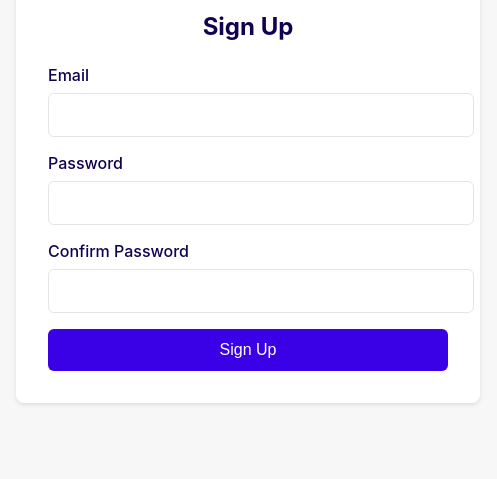
SignUp Component › validates password length
Type "test@example.com" into the field labelled "Email" at (261, 115), box [48,93,474,137]
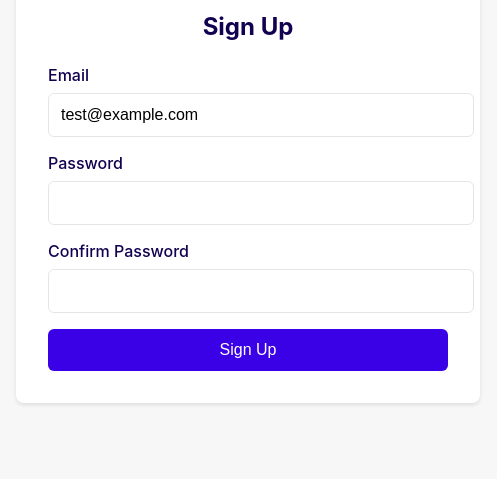
Type "12345" into the password field labelled "Password" at (261, 203), box [48,181,474,225]
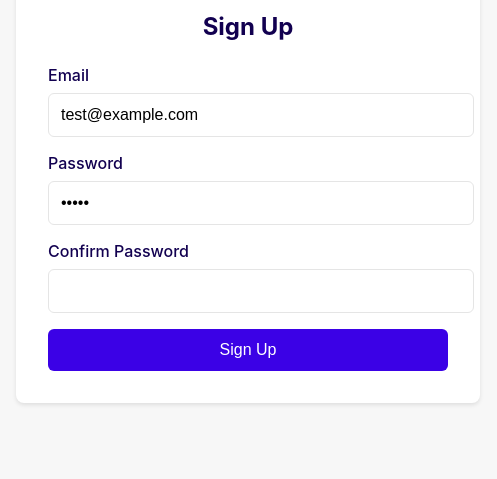
Type "12345" into the password field labelled "Confirm Password" at (261, 291), box [48,269,474,313]
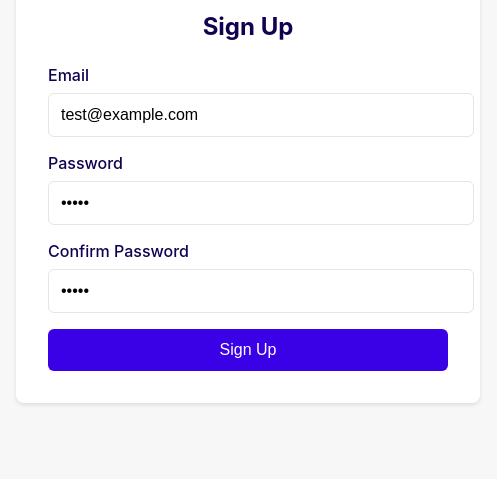
Submit the form, box [48,65,448,371]
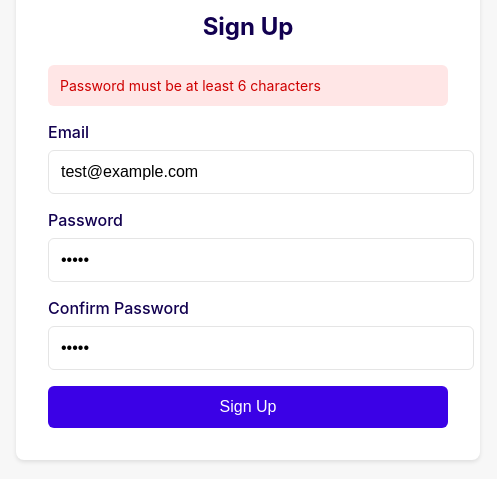
Check: the text "Password must be at least 6 characters" is shown, box [48,65,448,106]
